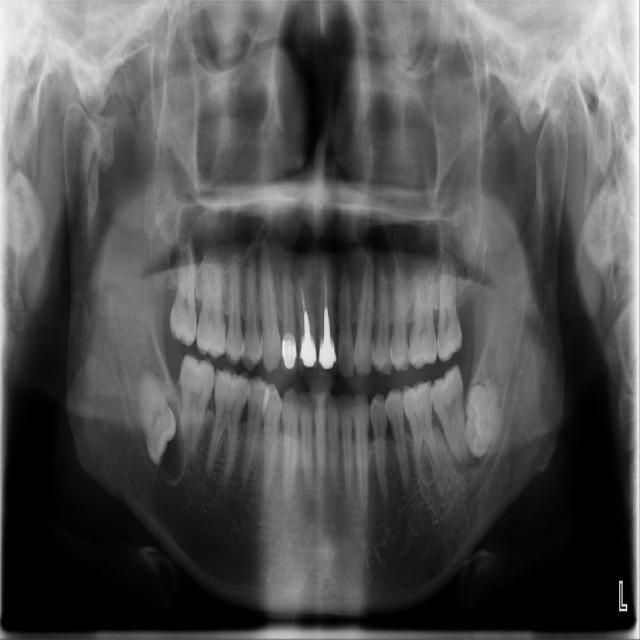Crown: (300, 333, 317, 382), (319, 336, 337, 380), (281, 333, 297, 375)
Root Canal Treatment: (299, 280, 306, 309), (322, 269, 324, 286), (324, 286, 325, 303)
impacted tooth: (138, 372, 181, 465), (465, 380, 501, 455)
